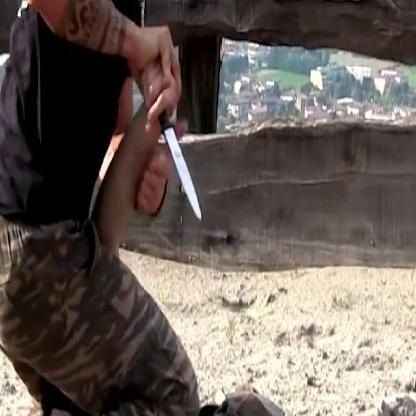knife: (146, 78, 208, 233)
